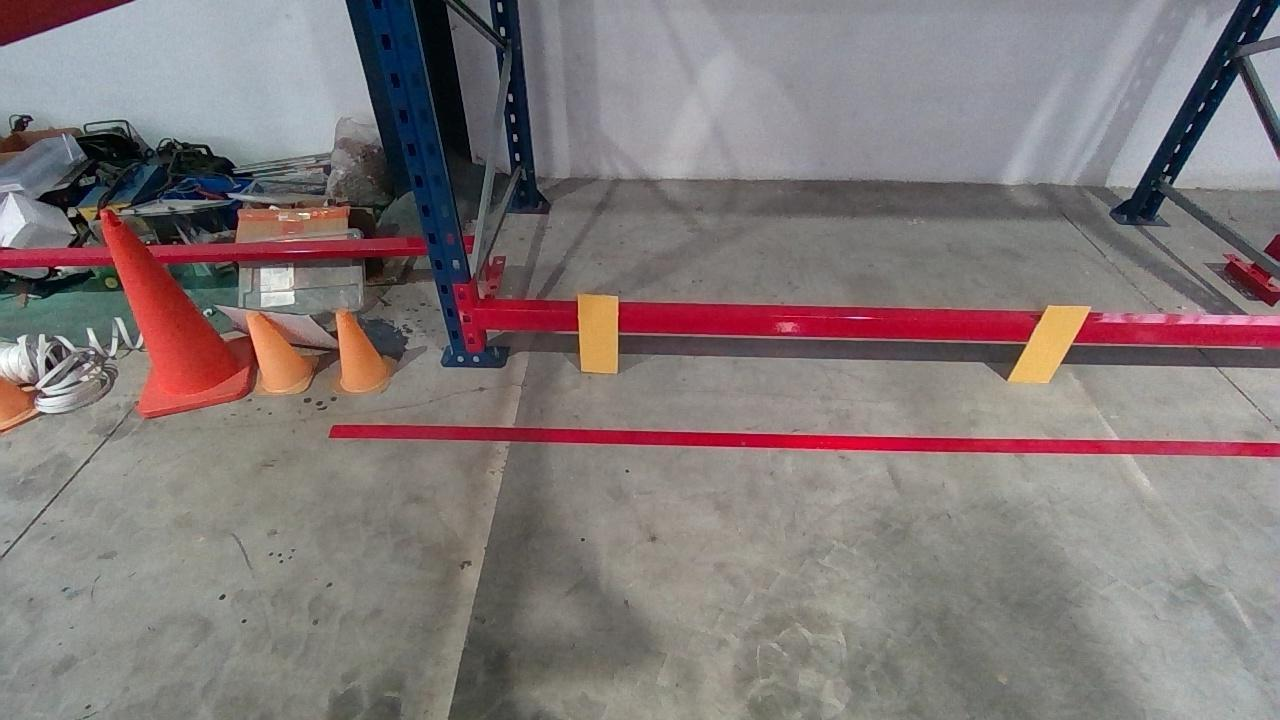h_rack: (486, 312, 1278, 346)
orange_strip: (1010, 304, 1097, 383), (578, 294, 619, 371)
red_line: (327, 424, 1275, 457)
